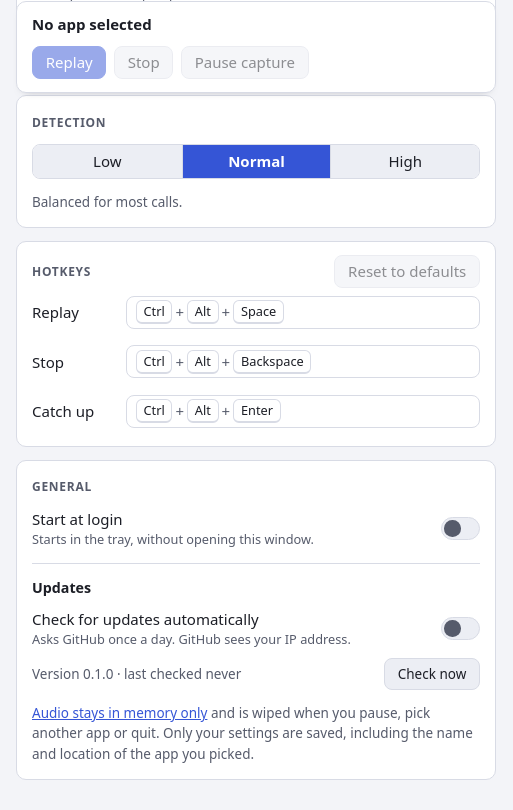
it: general section updates › checks now, whatever the setting says, and then shows when
This screenshot has width=513, height=810.
(page scrolled)
Check: the element named "Status" is shown, box left=16, top=0, right=496, bottom=92
Click the button "Check now": point(432, 674) left=384, top=658, right=480, bottom=690
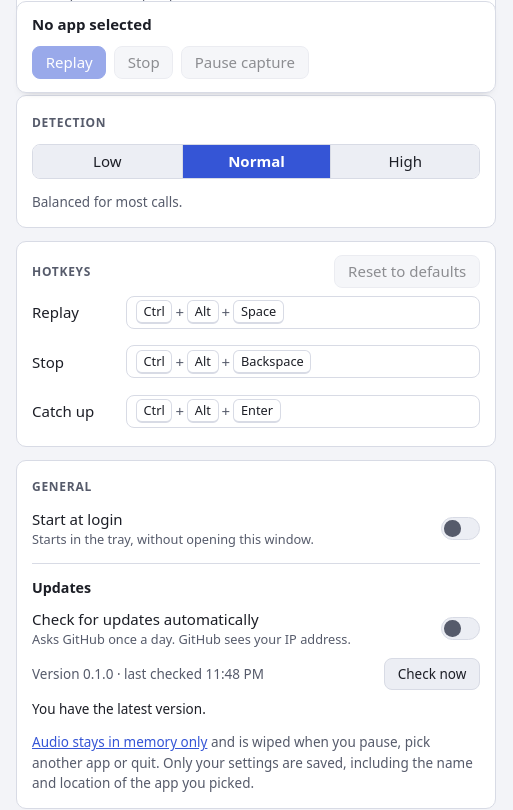
Check: the text "You have the latest version." is shown, box left=32, top=699, right=206, bottom=719
Check: the element "Updates" no longer shows "last checked never", box left=32, top=563, right=480, bottom=719
